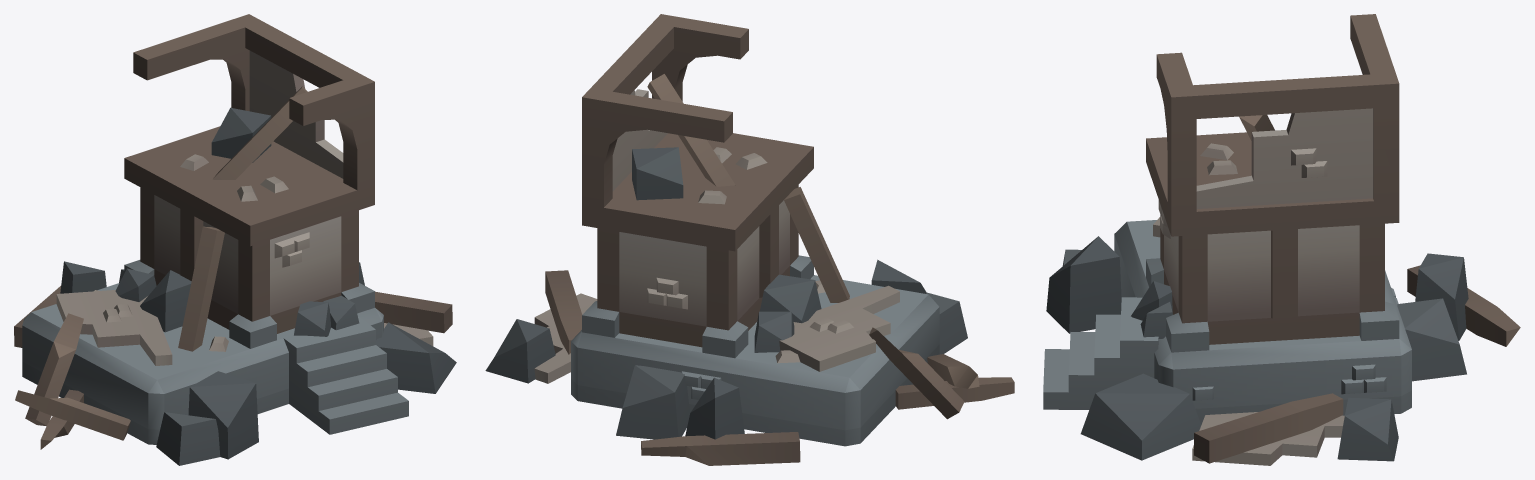
File: ruin.glb
The picture shows the model from 3 angles, left to right: view 1: azimuth 30°, elevation 25°; view 2: azimuth 150°, elevation 25°; view 3: azimuth 270°, elevation 25°; orthographic projection. The views are drawn at different scales.
Visible parts, largest first — view 1: ruin; view 2: ruin; view 3: ruin.
Part boxes in pixels (bbox=[...]): ruin: bbox=[14, 14, 456, 465]; ruin: bbox=[485, 14, 1014, 465]; ruin: bbox=[1043, 14, 1520, 465].
Bounding box in the file's own units: 0.7696 × 0.497 × 0.653.
1 material, 1 textured.
